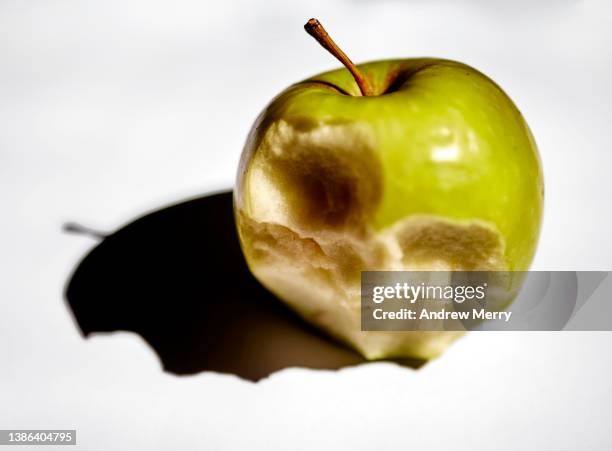apple: (224, 16, 563, 372)
